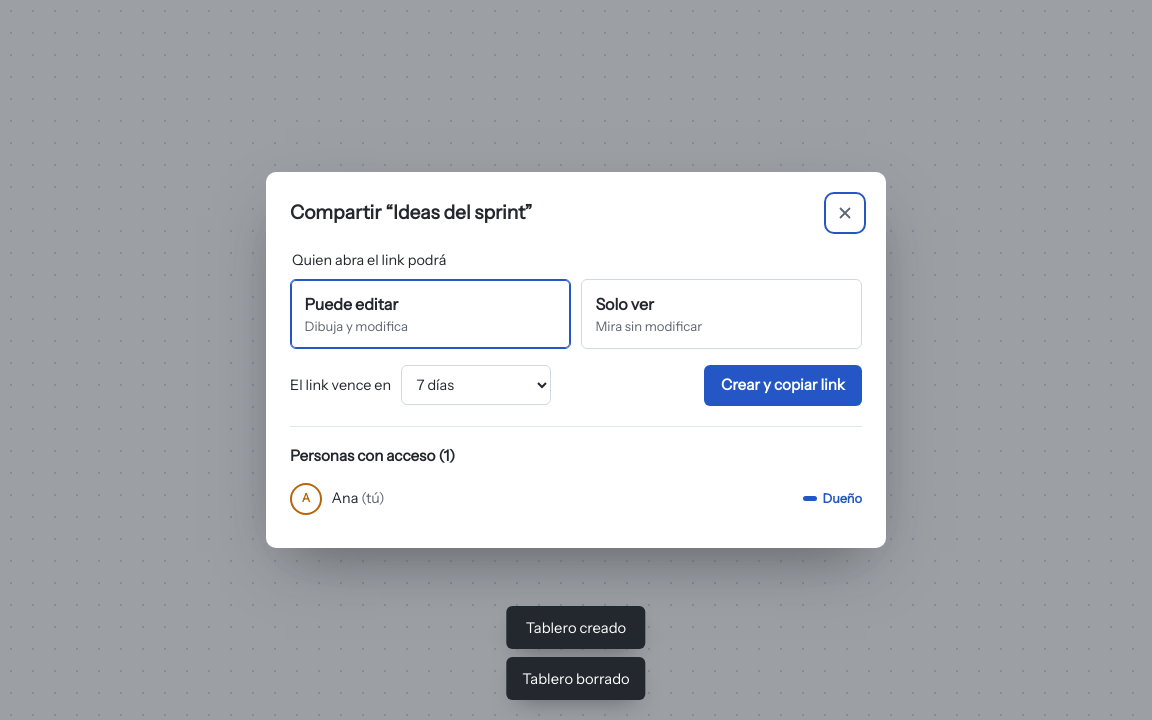
Scenario: Compartir › el owner crea un link de solo lectura
This screenshot has width=1152, height=720.
Check: the heading "Personas con acceso (1)" is shown, box [290,446,455,465]
Click the radio button labelled "Solo ver Mira sin modificar" at (625, 304), box [581,279,862,349]
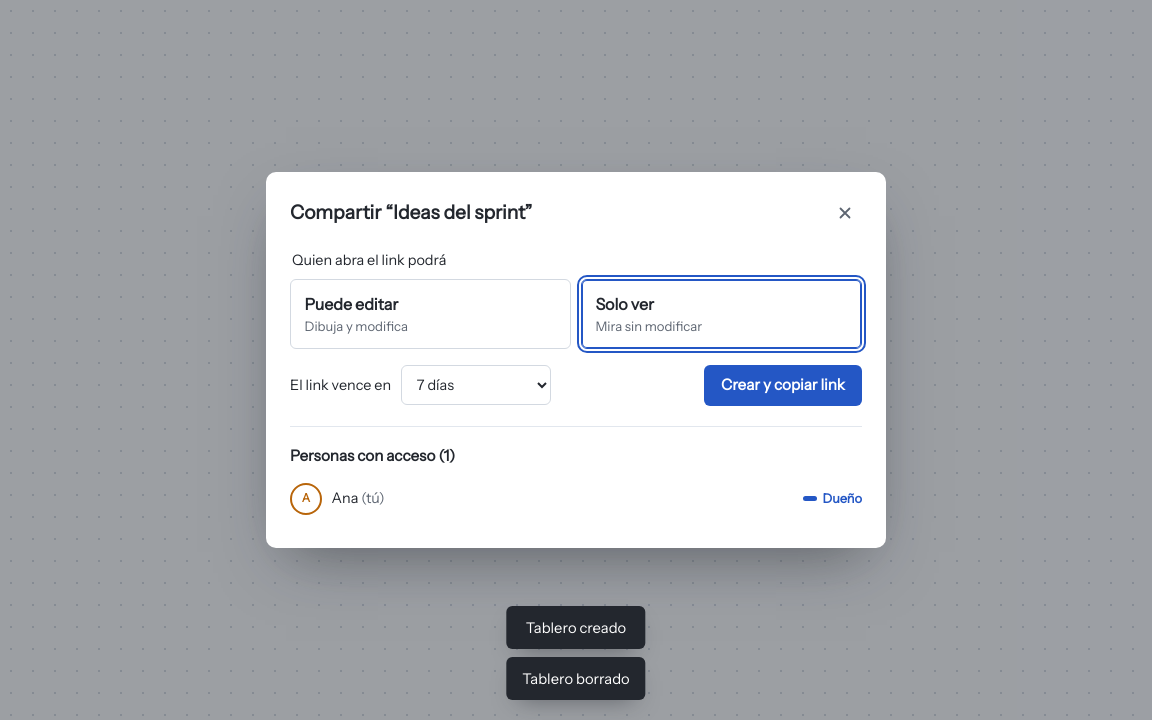
Select "Sin vencimiento" in the dropdown labelled "El link vence en" at (476, 385), box [401,365,551,405]
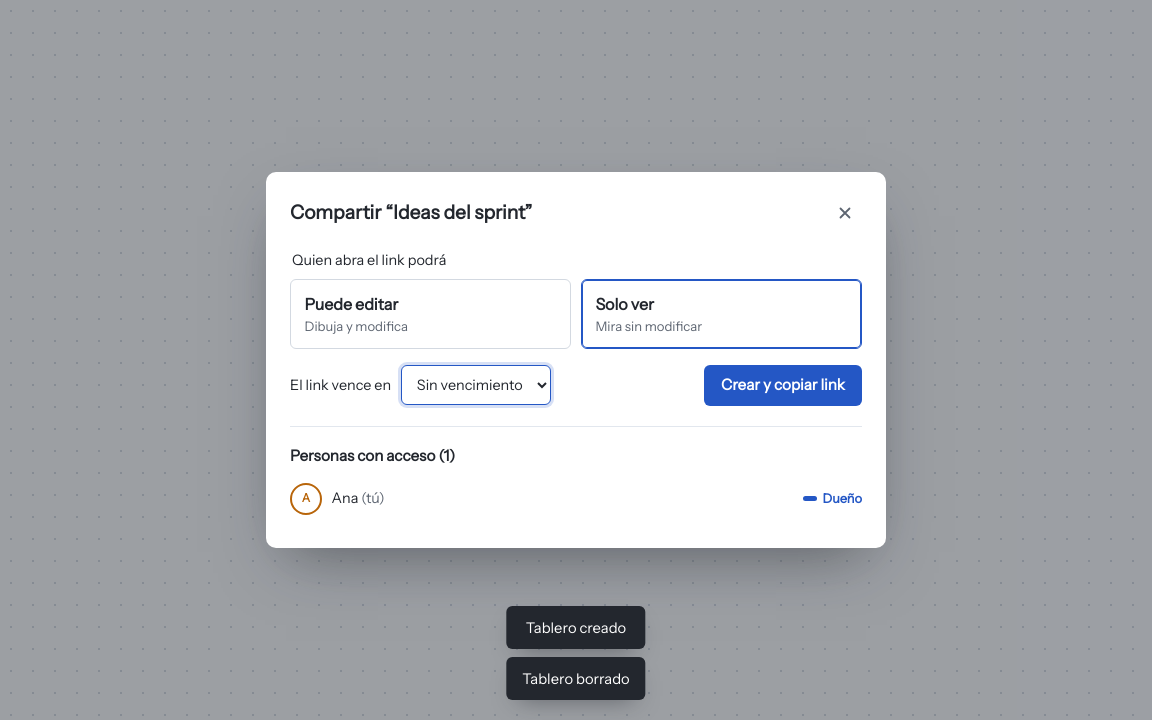
Click the button "Crear y copiar link" at (783, 385), box [704,365,862,406]
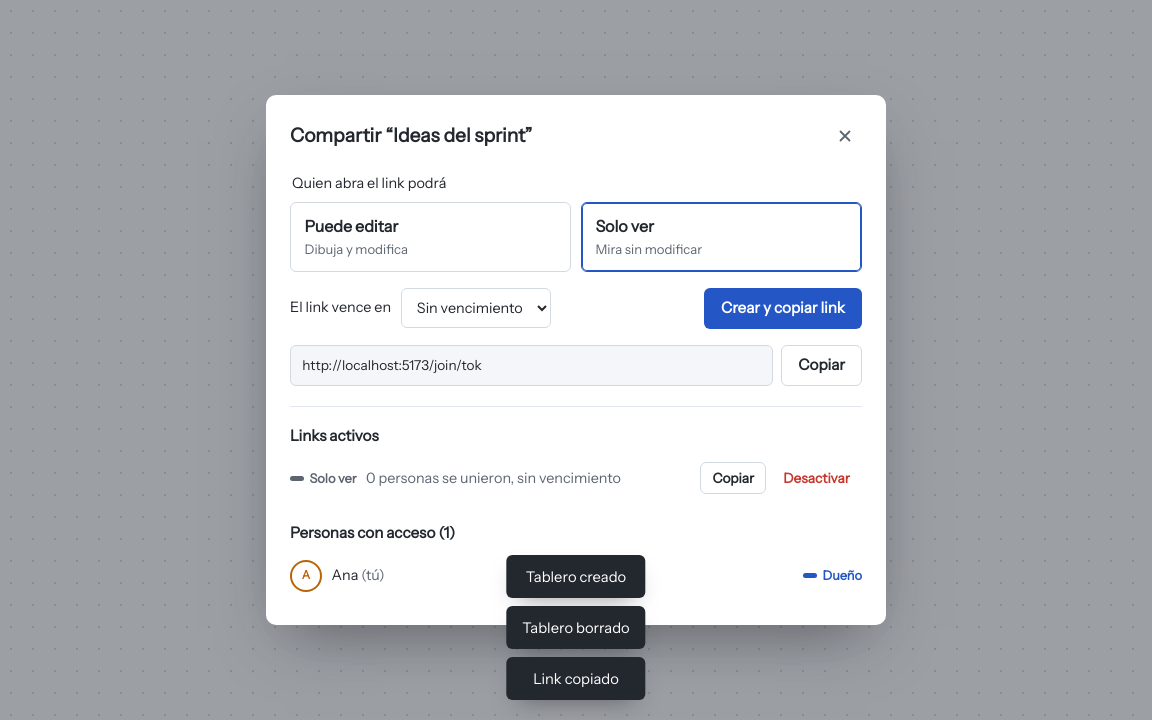
Check: the field showing "http://localhost:5173/join/tok" is shown, box [290,345,773,386]
